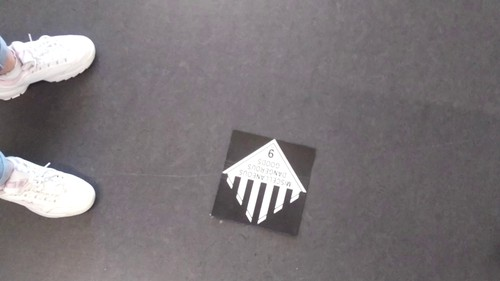misgoods: (223, 146, 315, 223)
